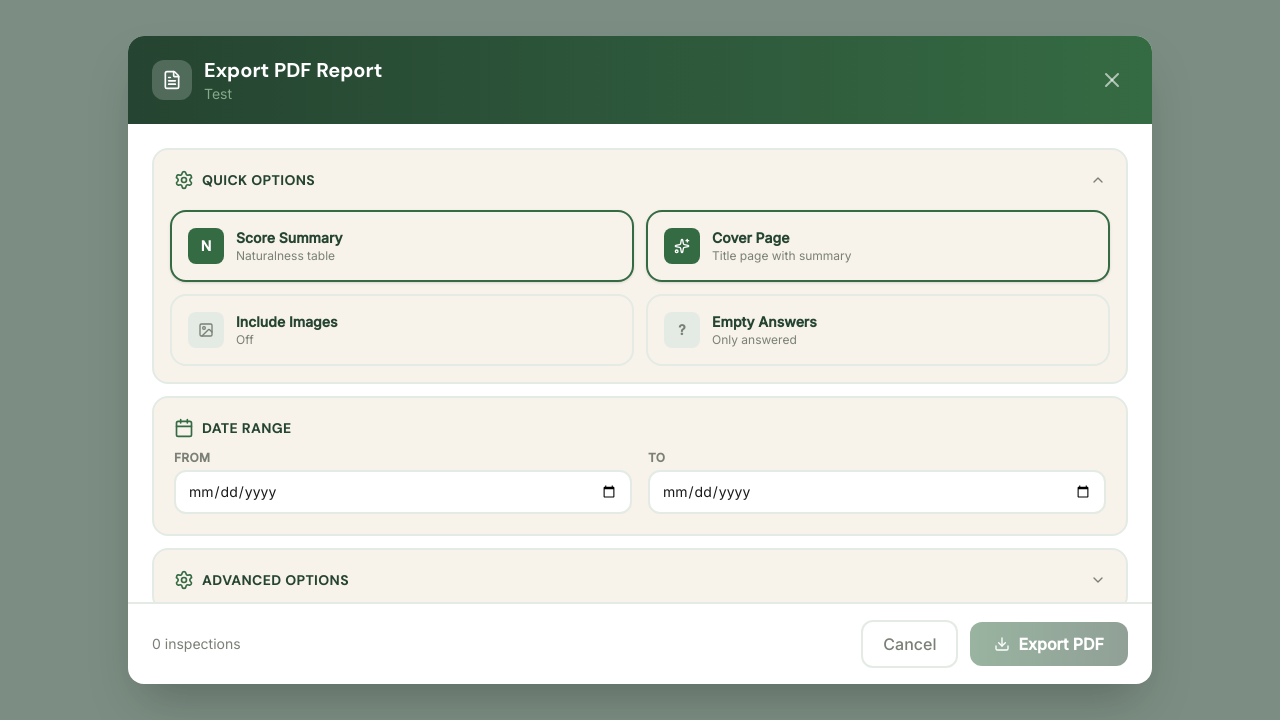
Scenario: PdfExportModal › toggles Include Images option
The width and height of the screenshot is (1280, 720).
Expected: the text "Off" is shown, x1=236 y1=332 x2=254 y2=347
// Click to enable
Click the text "Include Images".
click(287, 322)  # box x1=236 y1=312 x2=338 y2=332
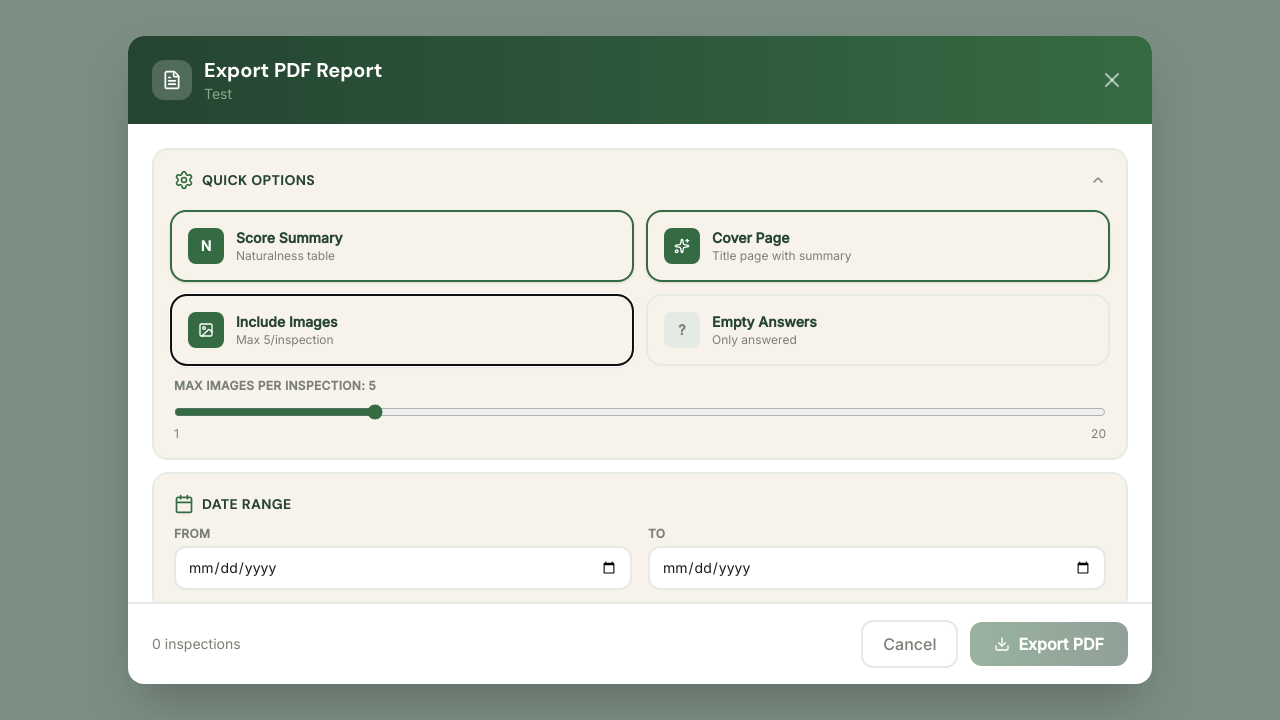
Expected: the text "Max 5/inspection" is shown, x1=236 y1=332 x2=338 y2=348
